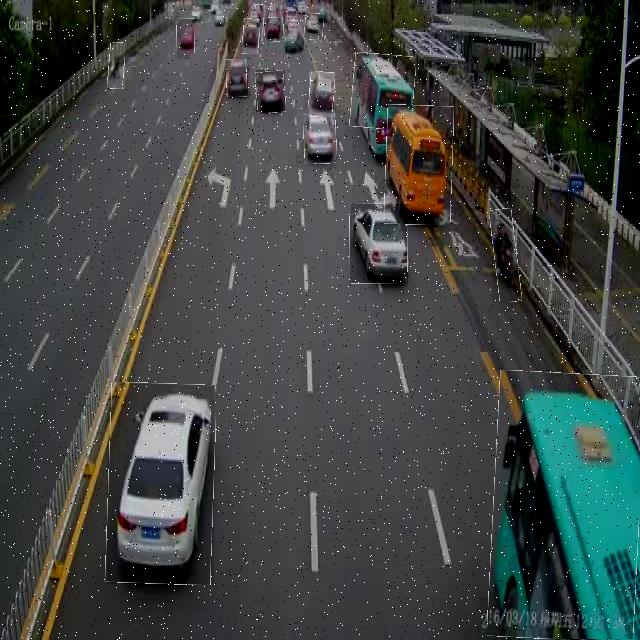Bus: (490, 372, 640, 640), (385, 104, 453, 225), (350, 53, 414, 130)
Car: (107, 384, 214, 584), (350, 204, 408, 284), (304, 113, 336, 164), (256, 70, 285, 112), (309, 72, 335, 117), (227, 59, 247, 97), (177, 18, 195, 59), (243, 19, 259, 54), (305, 14, 324, 40), (264, 18, 283, 42)
Motorcycle: (492, 209, 520, 302), (108, 43, 125, 89)
